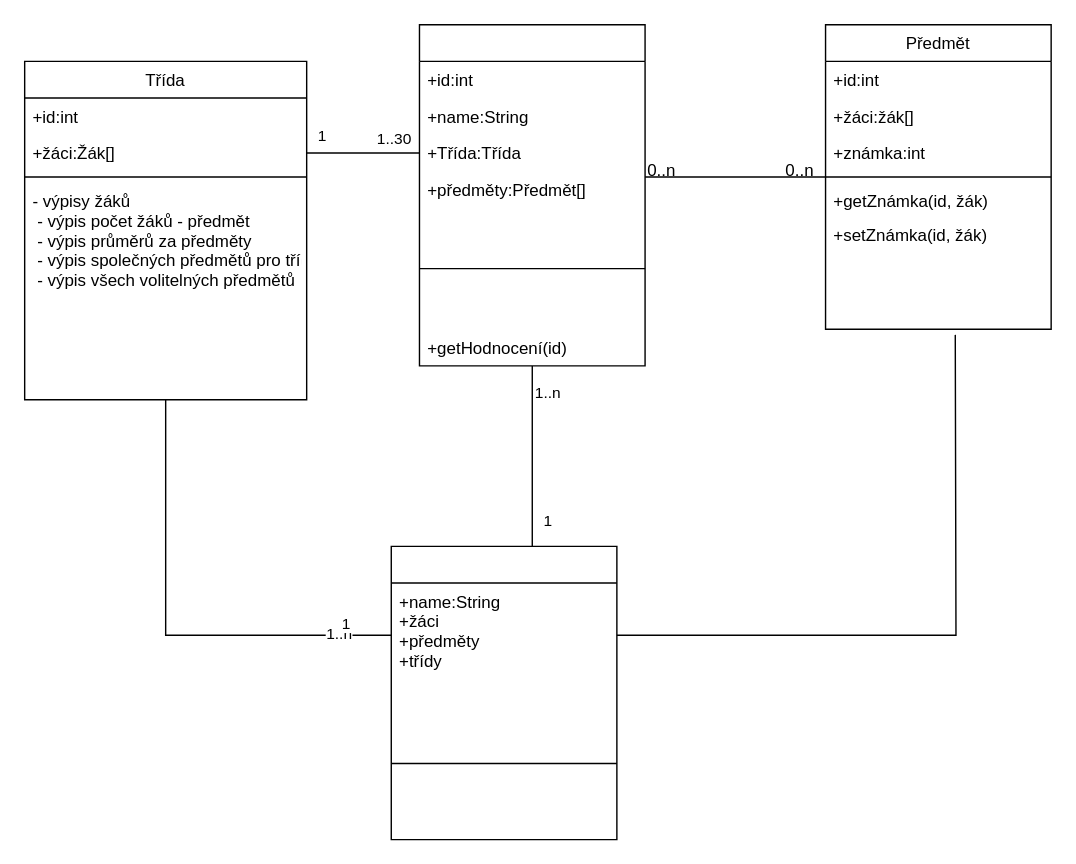
The diagram is 1076 pixels wide and 864 high, and some of its shapes have lost their labels. Here are the shapes that lost their labels. From the top down, the box of each, then its label:
(418, 23, 645, 366): Žák
(390, 545, 617, 840): Škola
